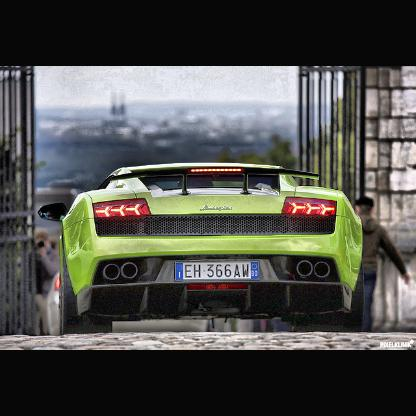Lamborghini Gallardo LP 570-4 Superleggera 2012: (38, 162, 366, 334)
